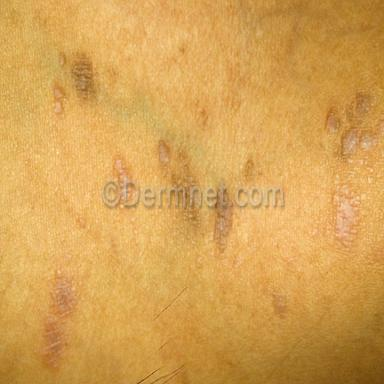lichen: (43, 269, 77, 368), (333, 185, 360, 247), (72, 54, 92, 97), (213, 207, 232, 248), (341, 126, 359, 155), (114, 155, 129, 181), (325, 109, 340, 133), (359, 131, 379, 149), (355, 93, 371, 114), (158, 139, 170, 165), (54, 87, 65, 113), (244, 157, 254, 179), (58, 52, 66, 66)
